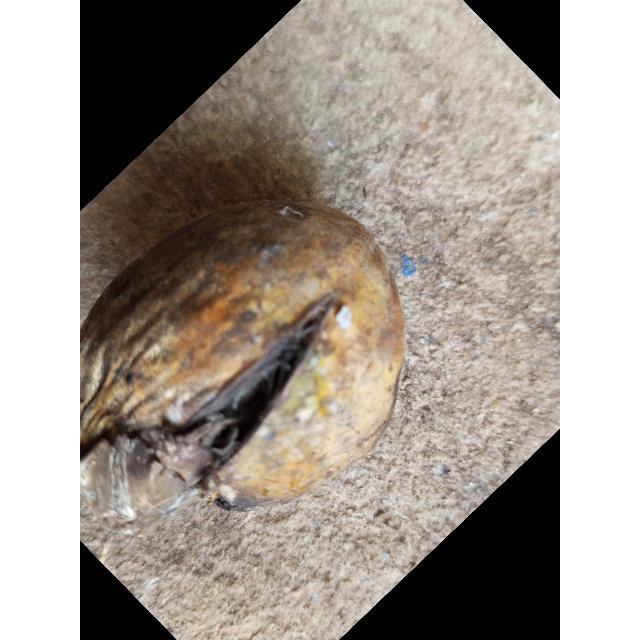damaged: (80, 202, 404, 524)
